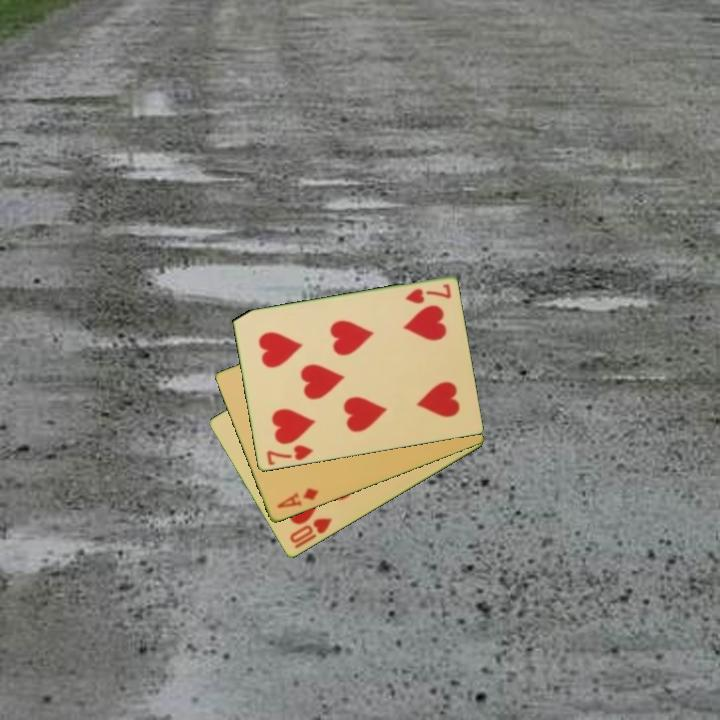10h: (286, 515, 335, 547)
7h: (401, 280, 454, 307), (263, 442, 315, 468)
Ad: (273, 485, 322, 512)
